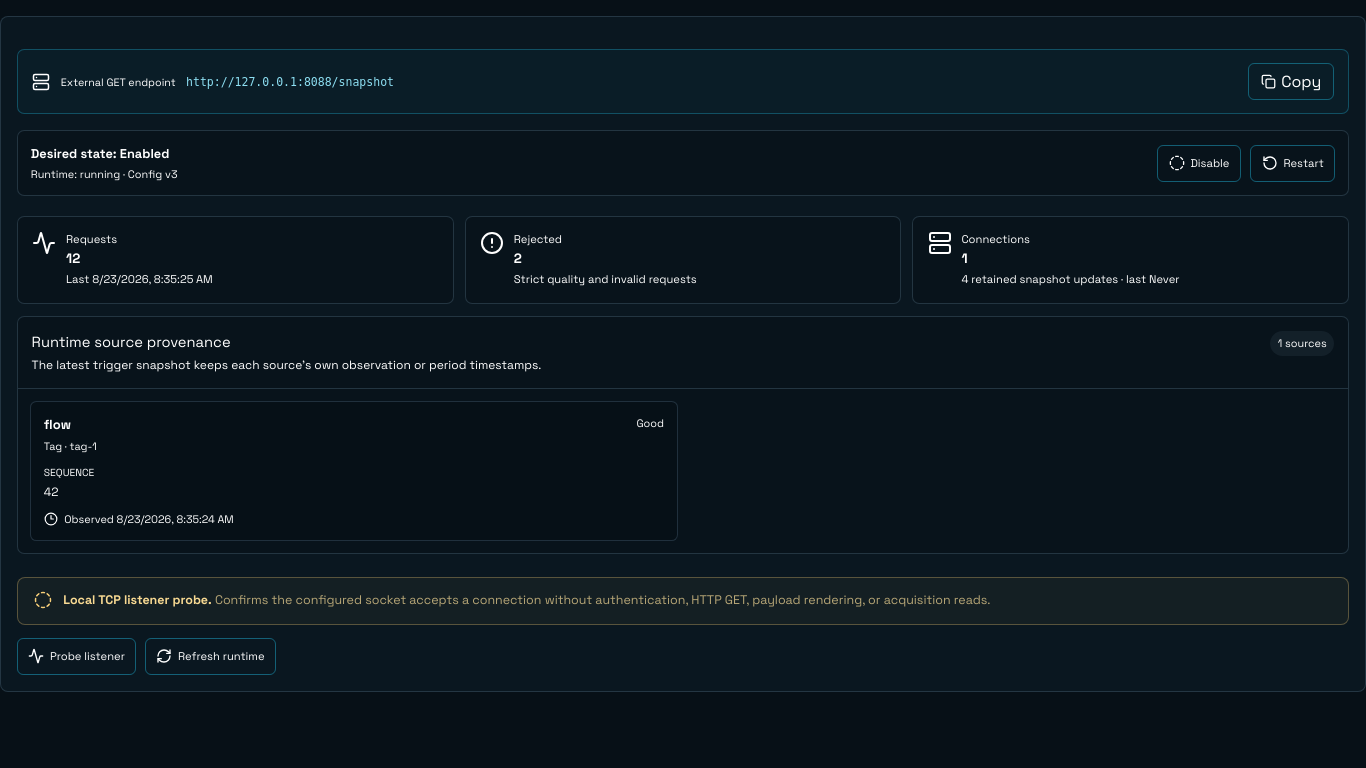
Test: HTTPServerPublisherOperations › probes a running listener without claiming an HTTP request
This screenshot has width=1366, height=768.
Step 1. Click the button "Probe listener" → [77, 656], box [17, 638, 136, 675]
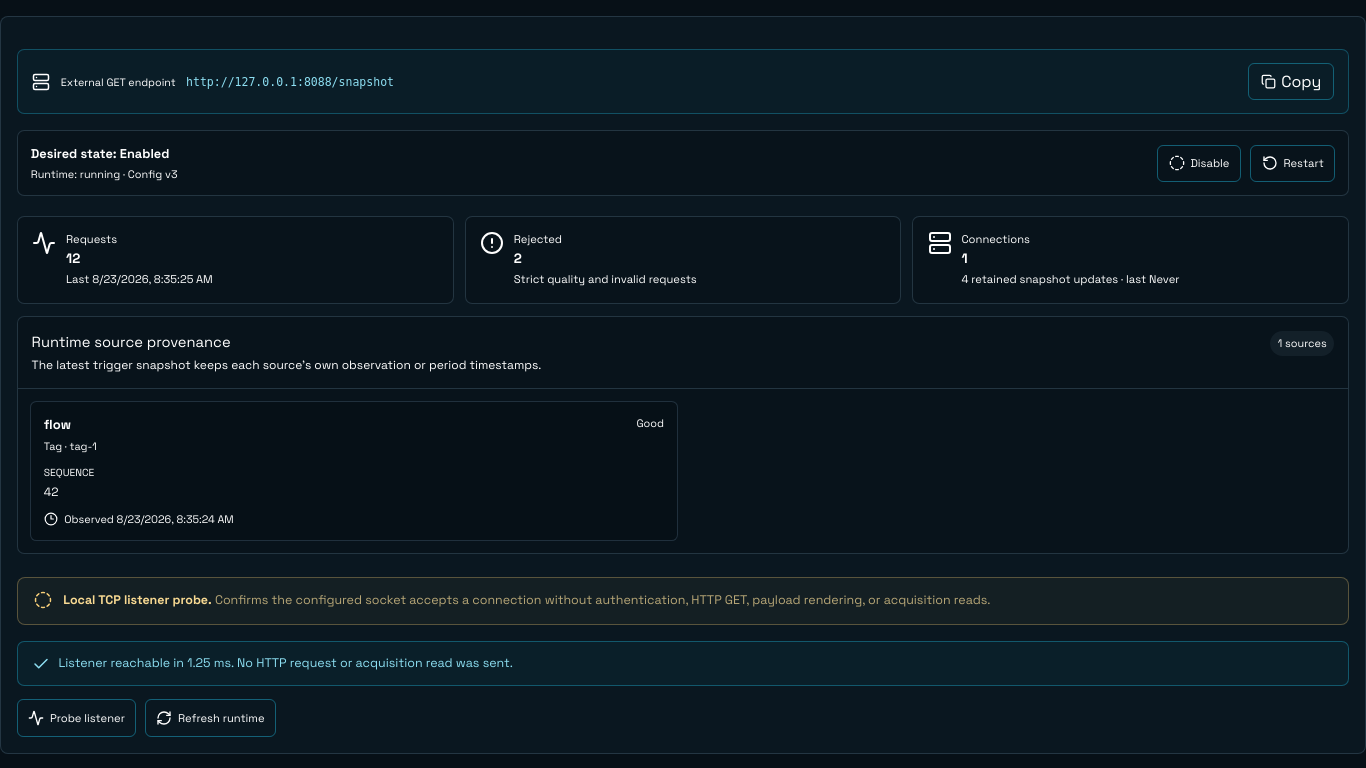
Check: the message shows "Listener reachable in 1.25 ms", box [58, 655, 513, 671]
Check: the message shows "No HTTP request or acquisition read was sent", box [58, 655, 513, 671]
